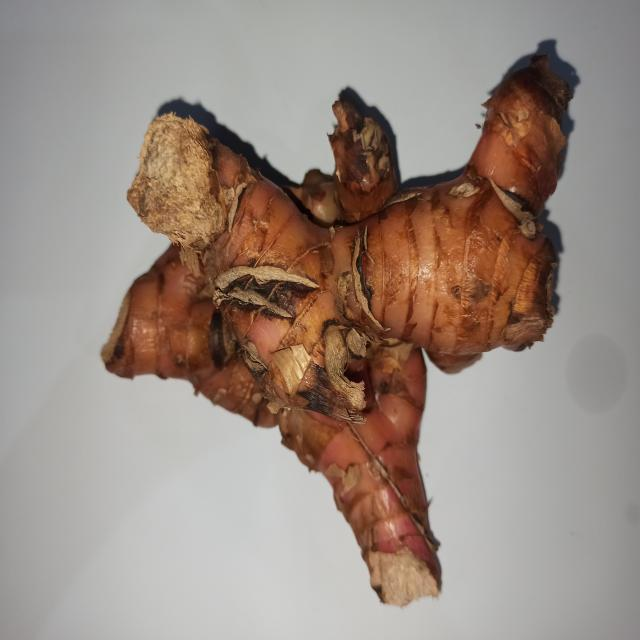ginger: (119, 74, 558, 573)
